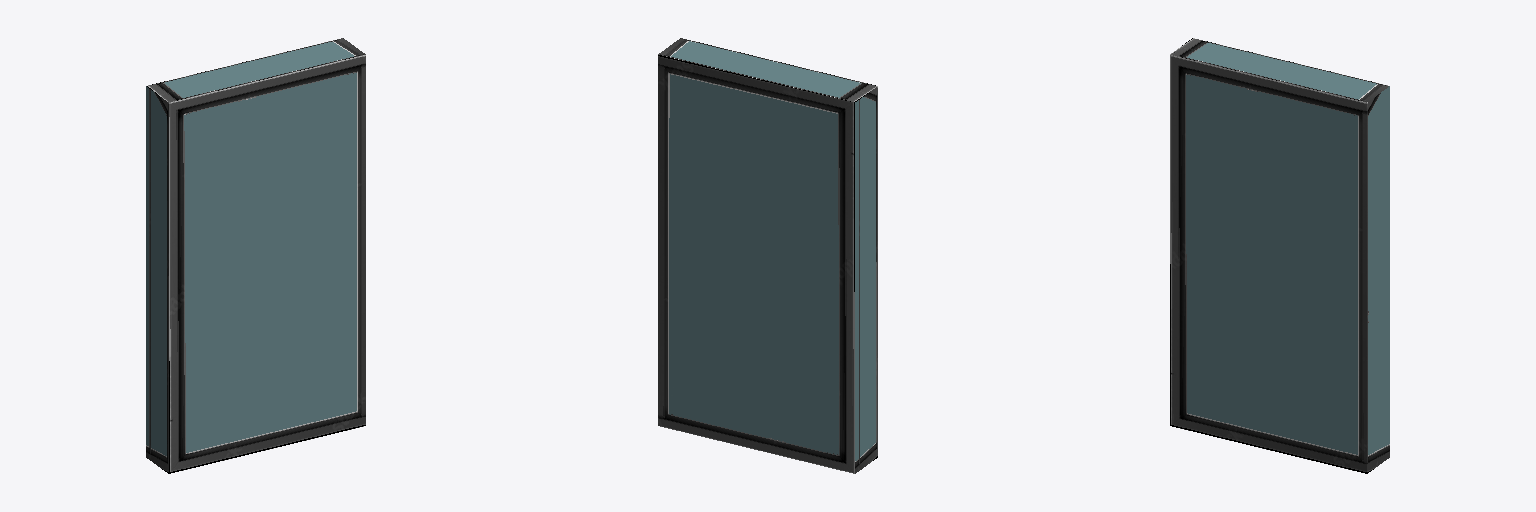
3 views of the same model, side by side, from view 1: azimuth 30°, elevation 25°; view 2: azimuth 150°, elevation 25°; view 3: azimuth 330°, elevation 25° (orthographic).
Visible parts, largest first — view 1: pCube17; view 2: pCube17; view 3: pCube17.
Part boxes in pixels (bbox=[...]): pCube17: bbox=[146, 38, 365, 473]; pCube17: bbox=[658, 38, 877, 473]; pCube17: bbox=[1170, 38, 1389, 473].
Size of the model in its own units: 50 by 90 by 10.
1 materials, 1 textured.